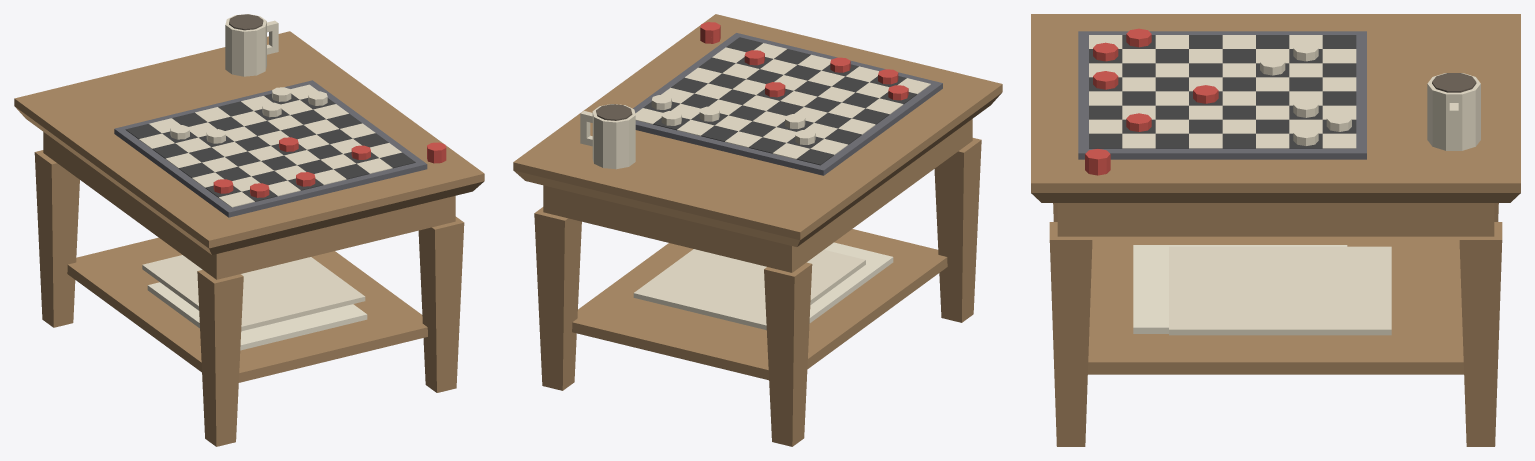
File: coffee_table.glb
The picture shows the model from 3 angles, left to right: view 1: azimuth 30°, elevation 25°; view 2: azimuth 150°, elevation 25°; view 3: azimuth 270°, elevation 25°; orthographic projection. The views are drawn at different scales.
Parts seen in each view (by area): view 1: CoffeeTable; view 2: CoffeeTable; view 3: CoffeeTable.
Boxes of the visible parts, x1,y1,x2,y2 form: CoffeeTable: (14, 14, 484, 446); CoffeeTable: (513, 14, 1002, 446); CoffeeTable: (1031, 14, 1520, 446).
Size of the model in its own units: 0.45 by 0.412 by 0.55.
